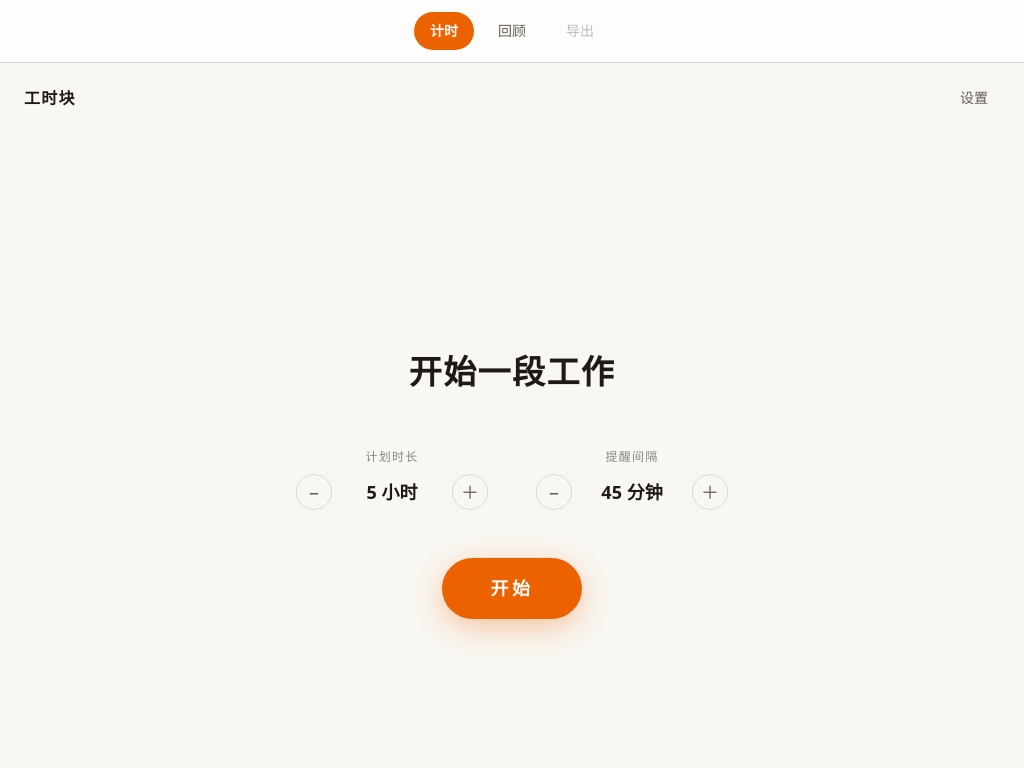
完整流程 › 跳过此段后回顾页显示（跳过）
Step 1. Click the button "开始" → (512, 589), box [442,558,582,619]
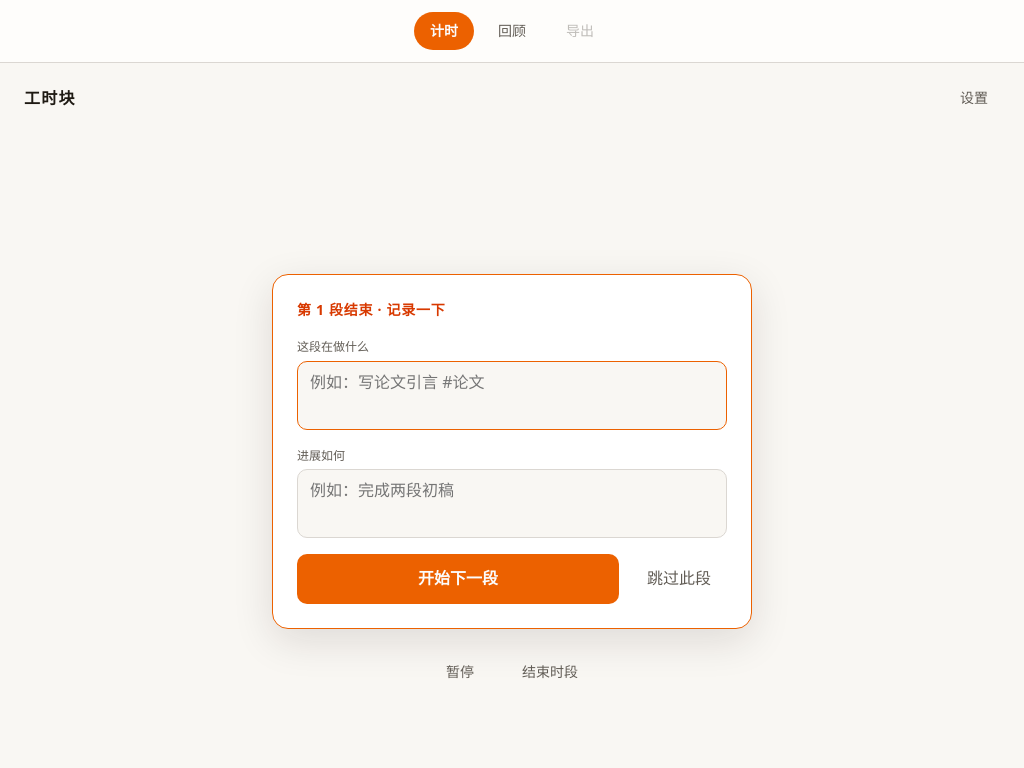
Step 2. Click the button "跳过此段" → (679, 579), box [631,554,727,604]
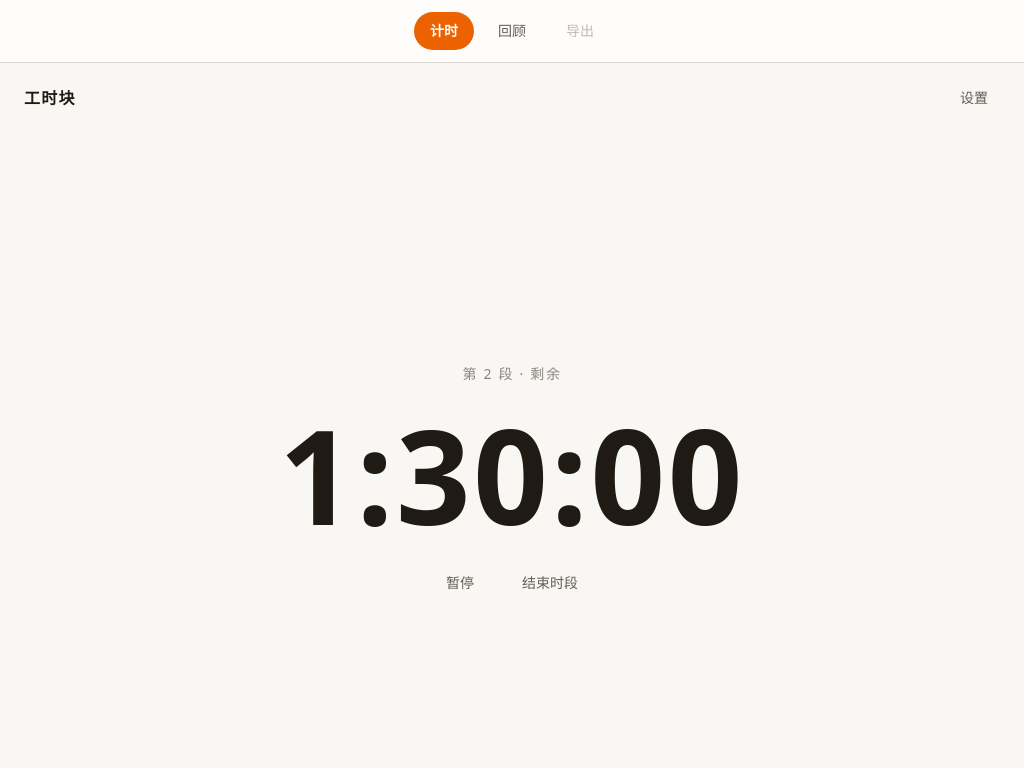
Step 3. Click the button "结束时段" → (550, 583), box [510,564,590,602]
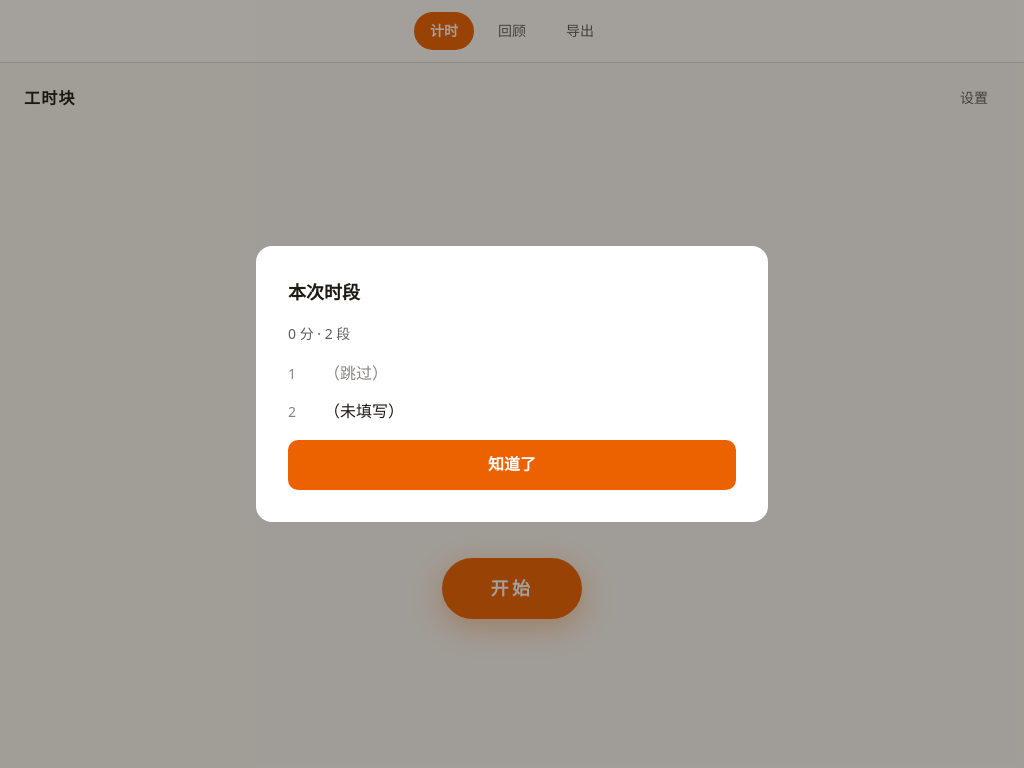
Step 4. Click the button "知道了" → (512, 465), box [288,440,736,490]
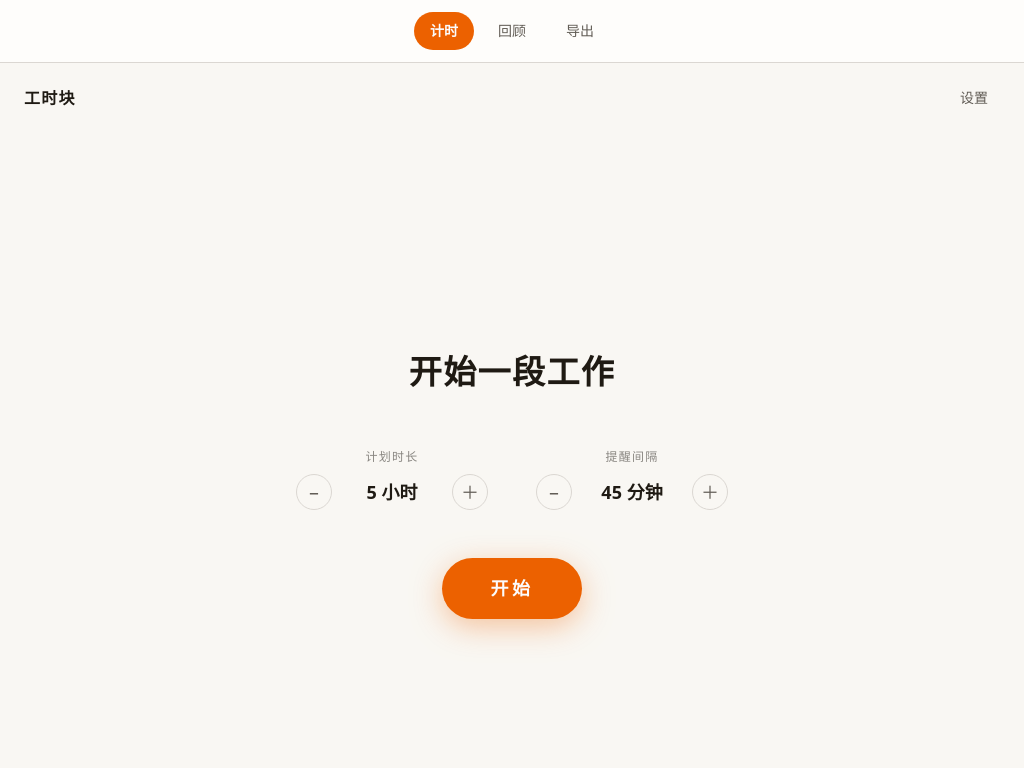
Step 5. Click the button "回顾" → (512, 31), box [482,12,542,50]
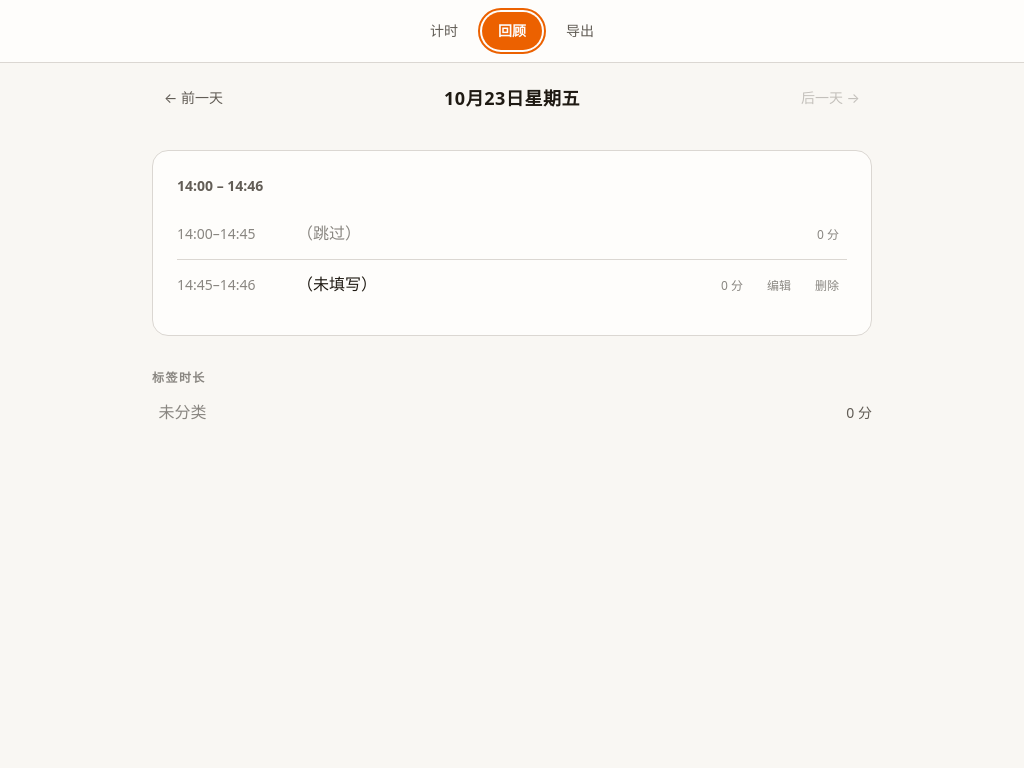
Expected: the text "（跳过）" is shown, [297,222,361,244]
